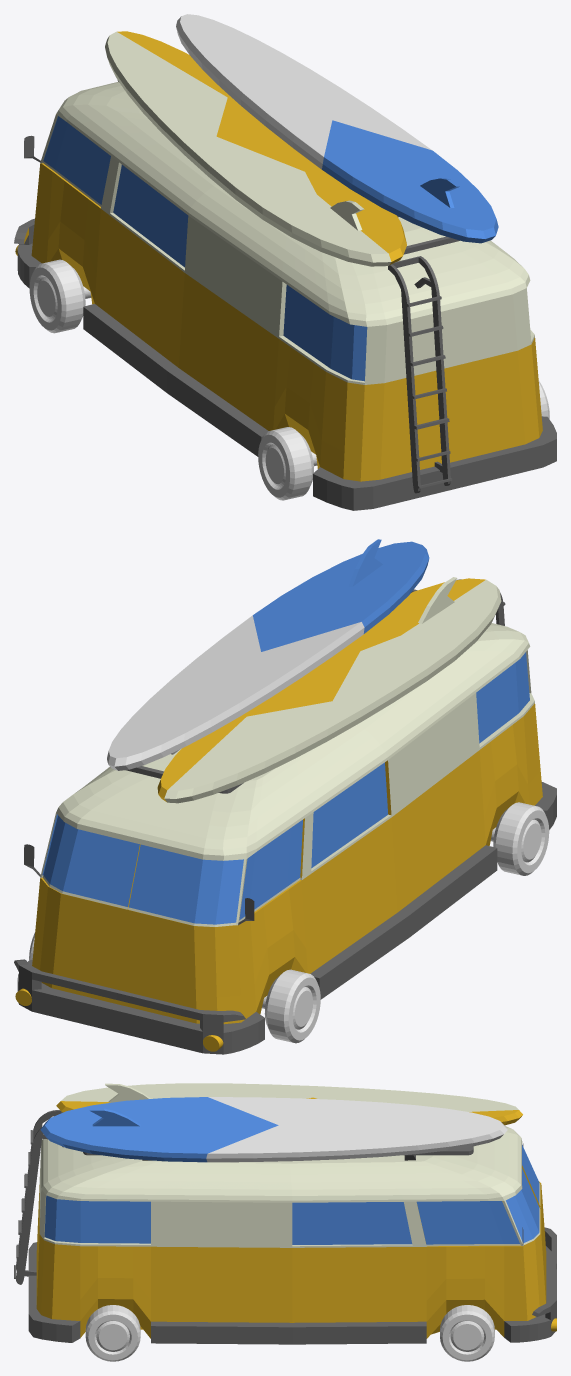
Rendered from vanV1 1.fbx.
The picture shows the model from 3 angles, top to bottom: view 1: azimuth 30°, elevation 25°; view 2: azimuth 150°, elevation 25°; view 3: azimuth 270°, elevation 25°; orthographic projection. The views are drawn at different scales.
Visible parts, largest first — view 1: a, qurf2, surf, roue.002, roue.003, Cube, Cube.001; view 2: a, surf, qurf2, roue.002, roue.003; view 3: a, qurf2, surf, roue, roue.001, Cube.001, Cube.
Part boxes in pixels (x1,y1,x2,y2): a: (14, 80, 556, 510); qurf2: (176, 14, 498, 243); surf: (105, 31, 406, 266); roue.002: (29, 259, 91, 333); roue.003: (258, 427, 317, 500); Cube: (388, 256, 452, 493); Cube.001: (414, 256, 450, 485); a: (14, 589, 556, 1054); surf: (157, 577, 501, 803); qurf2: (107, 539, 429, 770); roue.002: (262, 969, 320, 1043); roue.003: (490, 802, 549, 875); a: (28, 1126, 556, 1344); qurf2: (40, 1097, 507, 1162); surf: (56, 1083, 522, 1125); roue: (85, 1305, 140, 1361); roue.001: (440, 1305, 494, 1361); Cube.001: (16, 1127, 63, 1284); Cube: (14, 1110, 62, 1278).
Size of the model in its own units: 372 by 384 by 863.
